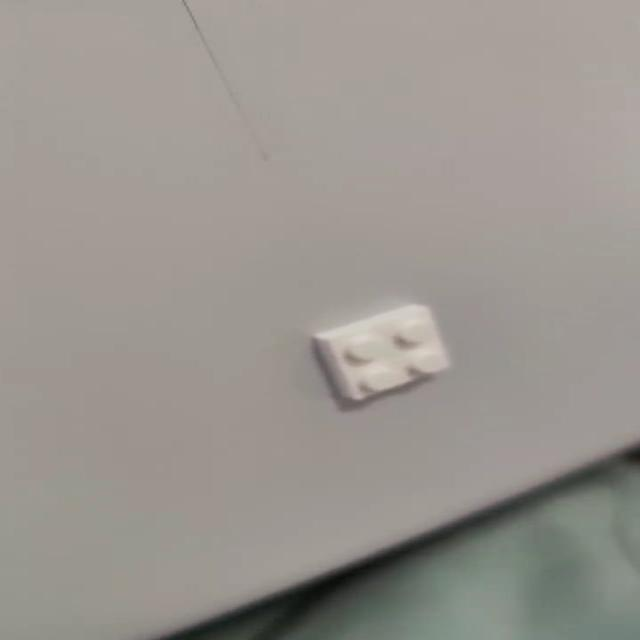C2x2x0: (300, 303, 458, 409)
